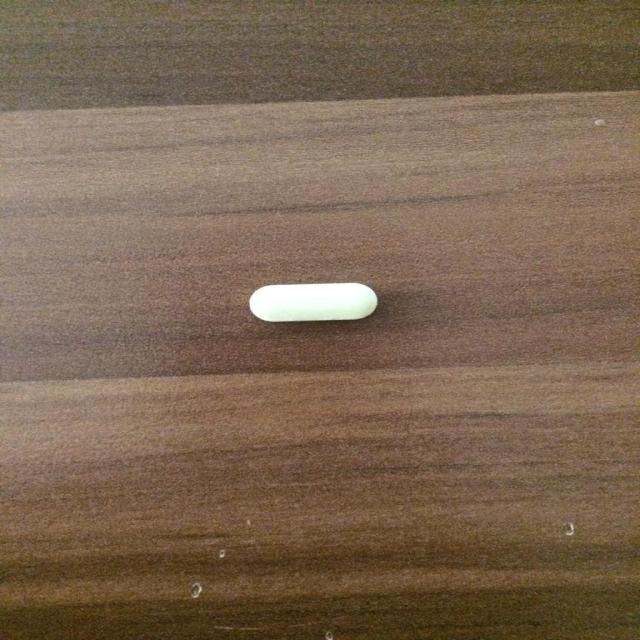pills: (237, 274, 390, 336)
